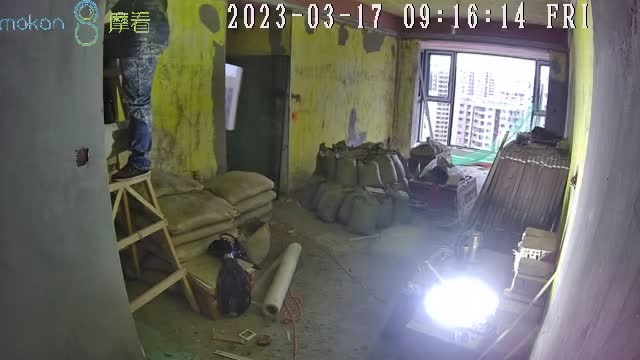people: (109, 1, 169, 181)
window: (420, 48, 550, 155)
